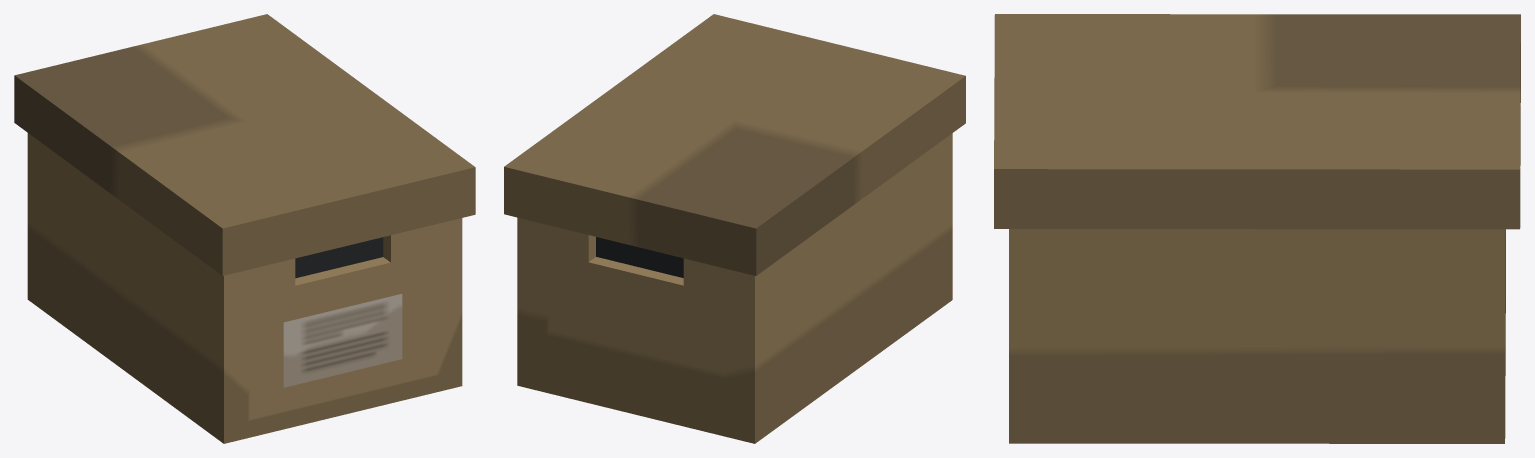
The model's file is SM_Prop_CardboardBox_01.fbx.
The picture shows the model from 3 angles, left to right: view 1: azimuth 30°, elevation 25°; view 2: azimuth 150°, elevation 25°; view 3: azimuth 270°, elevation 25°; orthographic projection. The views are drawn at different scales.
Parts seen in each view (by area): view 1: SM_Prop_CardboardBox_01; view 2: SM_Prop_CardboardBox_01; view 3: SM_Prop_CardboardBox_01.
Part boxes in pixels (bbox=[...]): SM_Prop_CardboardBox_01: bbox=[14, 14, 475, 443]; SM_Prop_CardboardBox_01: bbox=[504, 14, 965, 443]; SM_Prop_CardboardBox_01: bbox=[994, 14, 1520, 443].
Size of the model in its own units: 32.96 by 27.54 by 47.17.
1 material, 1 textured.
